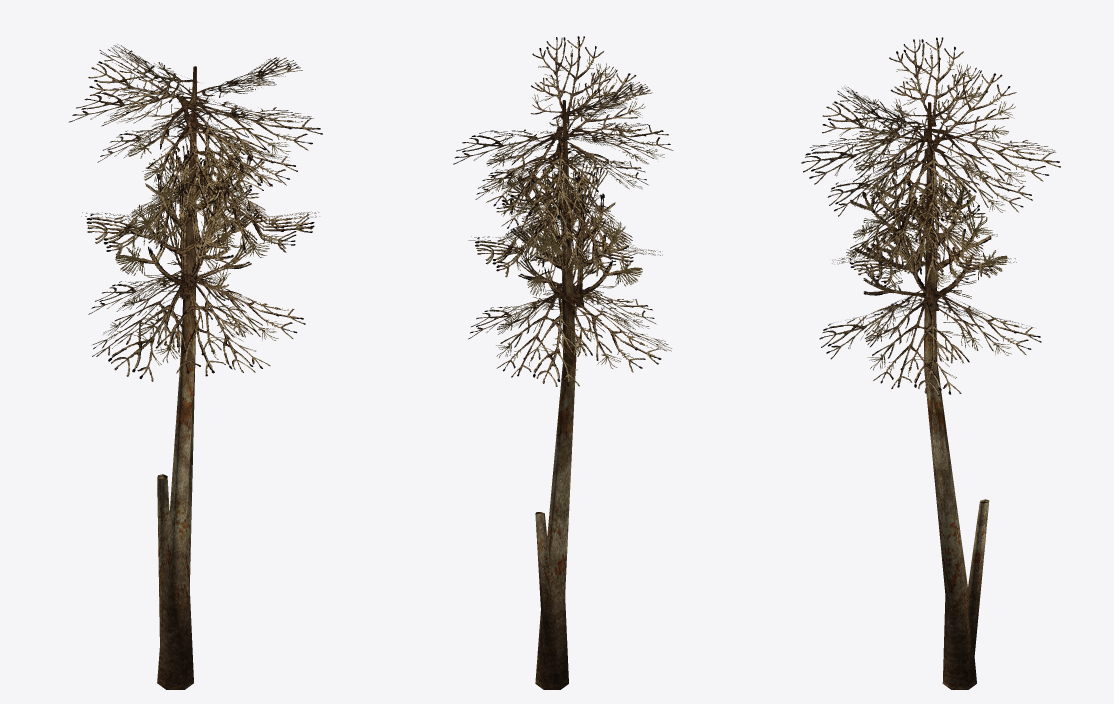
File: pine_black_3_live.glb
3 renders of one model, left to right at view 1: azimuth 30°, elevation 25°; view 2: azimuth 150°, elevation 25°; view 3: azimuth 270°, elevation 25°, orthographic. The views are drawn at different scales.
Parts seen in each view (by area): view 1: pine_black_3_live; view 2: pine_black_3_live; view 3: pine_black_3_live.
Part boxes in pixels (x1=…): pine_black_3_live: x1=68, y1=44, x2=322, y2=689; pine_black_3_live: x1=453, y1=36, x2=673, y2=689; pine_black_3_live: x1=801, y1=37, x2=1060, y2=689.
Bounding box in the file's own units: 11.72 × 25.93 × 12.58.
1 material, 1 textured.
